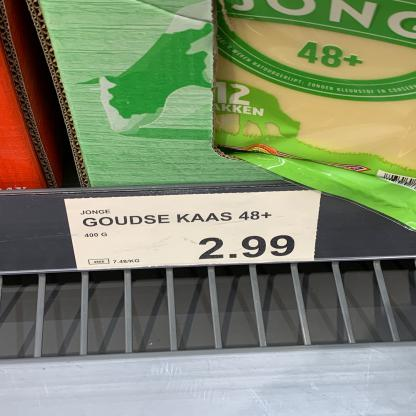prtg: (65, 191, 322, 272)
